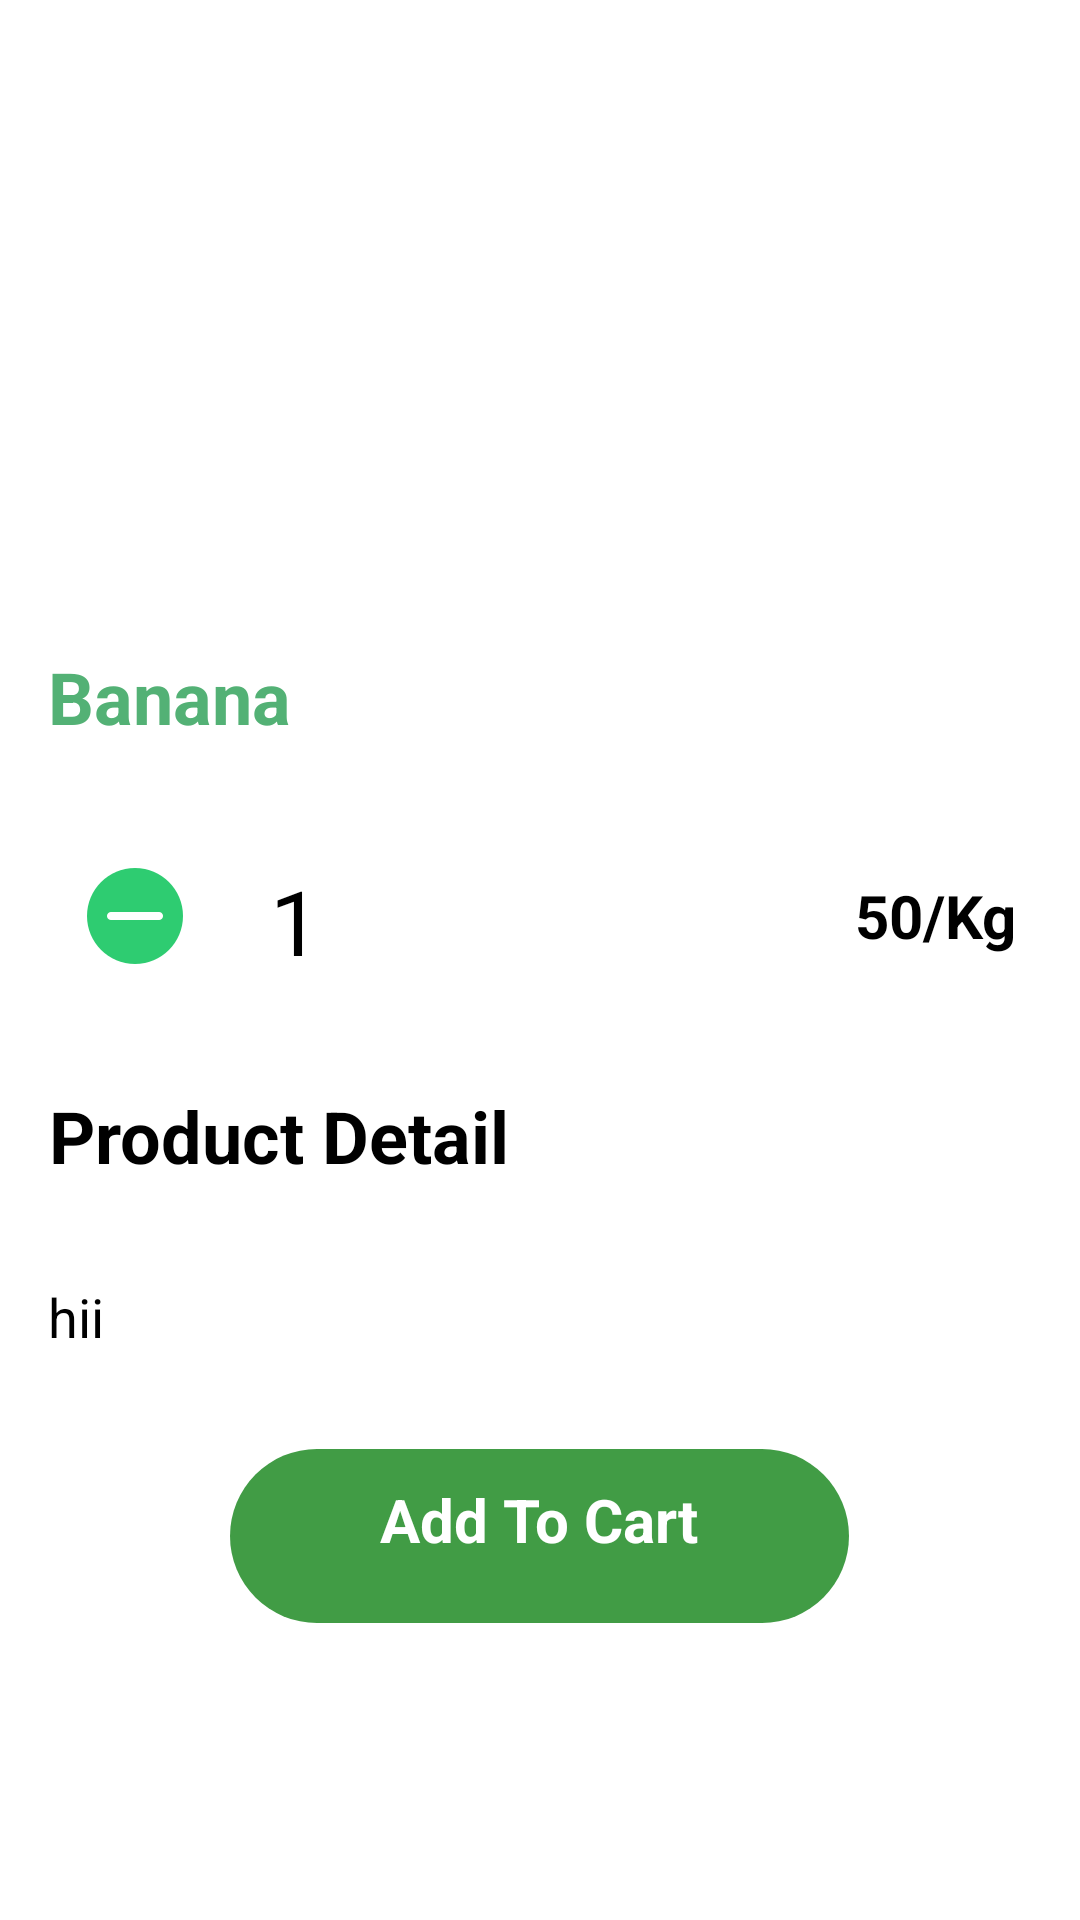

Where icons sit on this 1080 × 1920 app screen, as region(x1, y1, x2, y2):
minus: region(87, 868, 183, 964)
